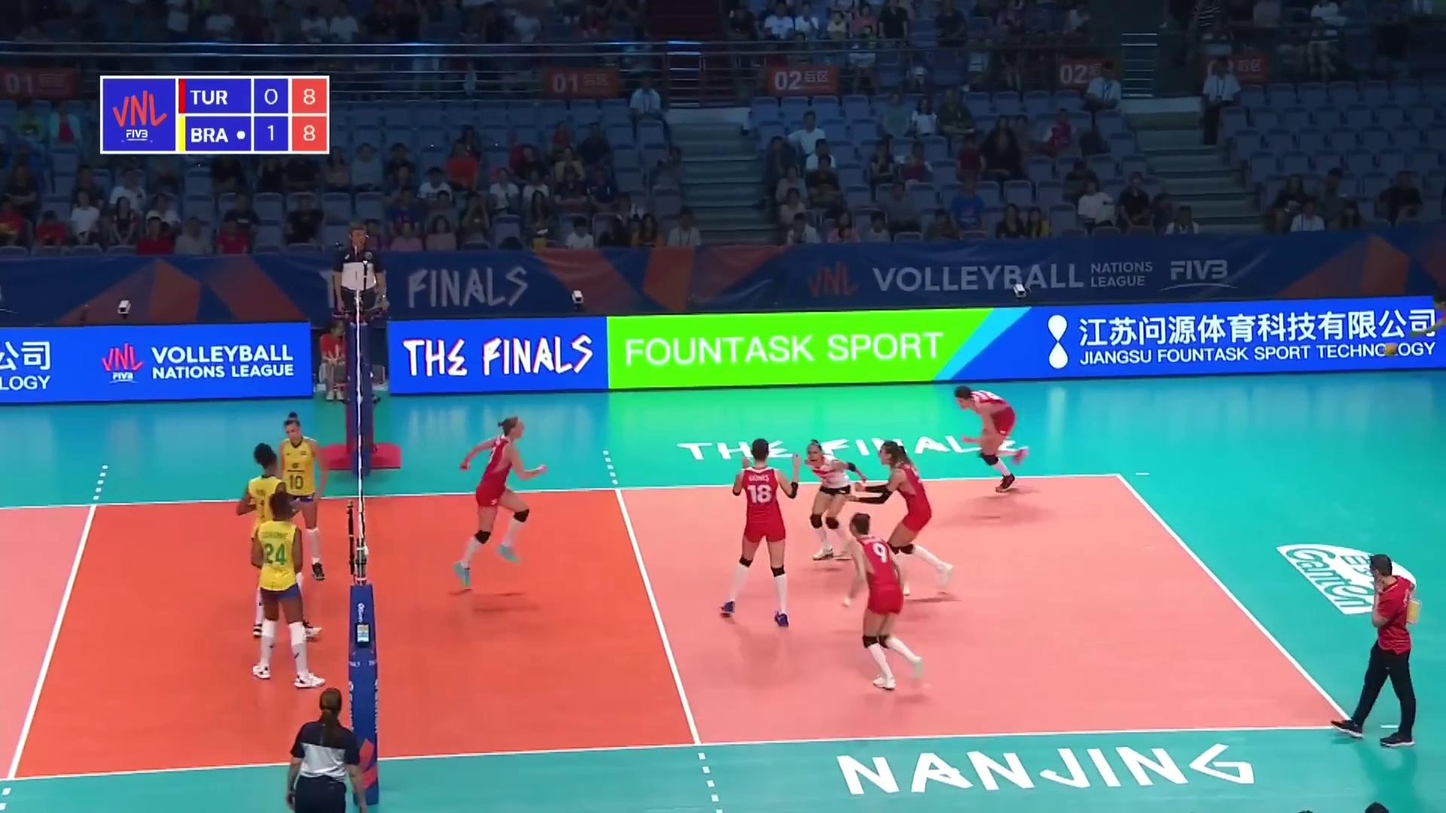player: (241, 445, 323, 642), (458, 416, 547, 595), (852, 440, 954, 596), (719, 437, 799, 624), (843, 514, 926, 688), (253, 495, 327, 682), (270, 412, 326, 583), (955, 388, 1032, 498), (802, 441, 867, 560)
refree: (285, 690, 364, 813), (332, 224, 386, 373)
